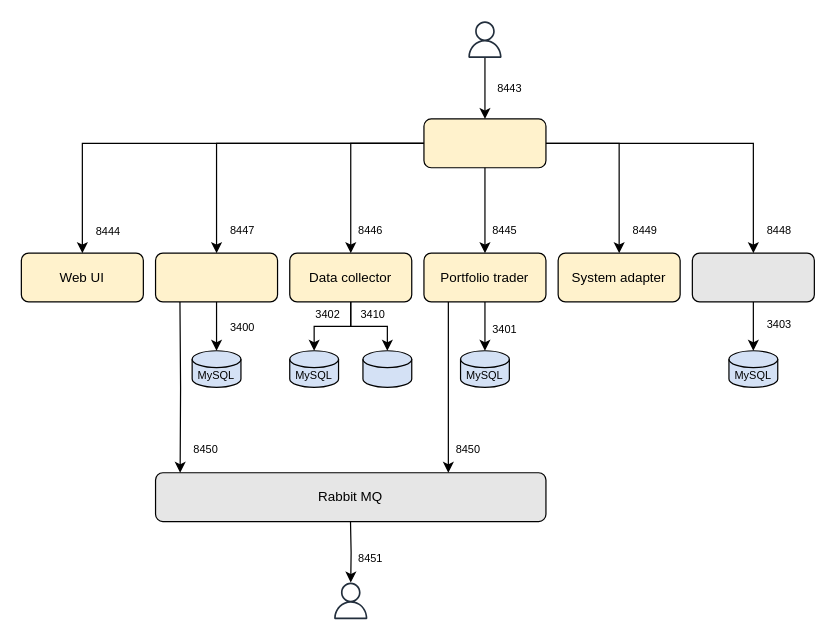
Some shapes in this 836 by 639 pixel diagram are drawn without their labels. The centre of each missing label's shape, as x and y in pixels:
"Gateway" belongs at [484,143].
"Influx" belongs at [387,368].
"Inventory server" belongs at [216,277].
"Keycloak" belongs at [752,277].
